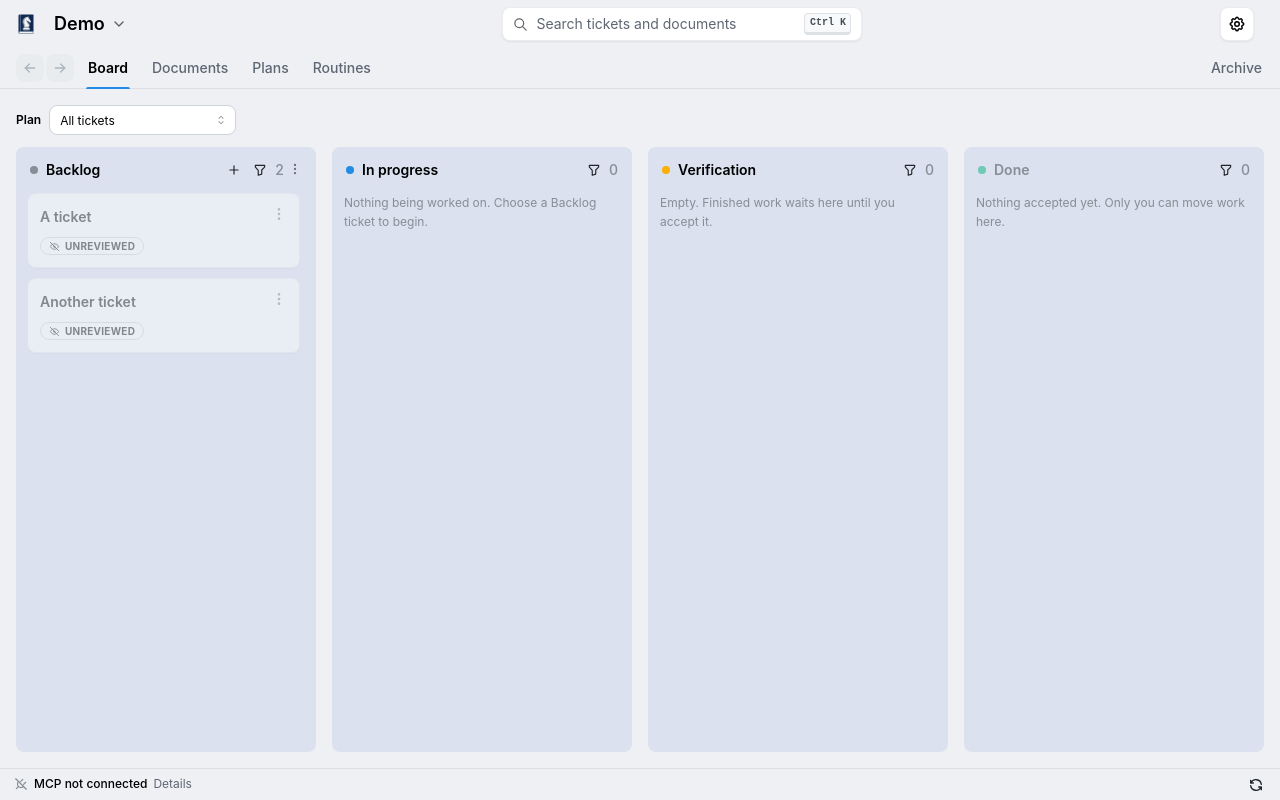
Test: a plan changed elsewhere › refuses the edit, reloads, and says so
Expected: the text "A ticket" is shown, left=40, top=208, right=91, bottom=225
Click the tab "Plans": [270, 68] box left=250, top=48, right=291, bottom=88
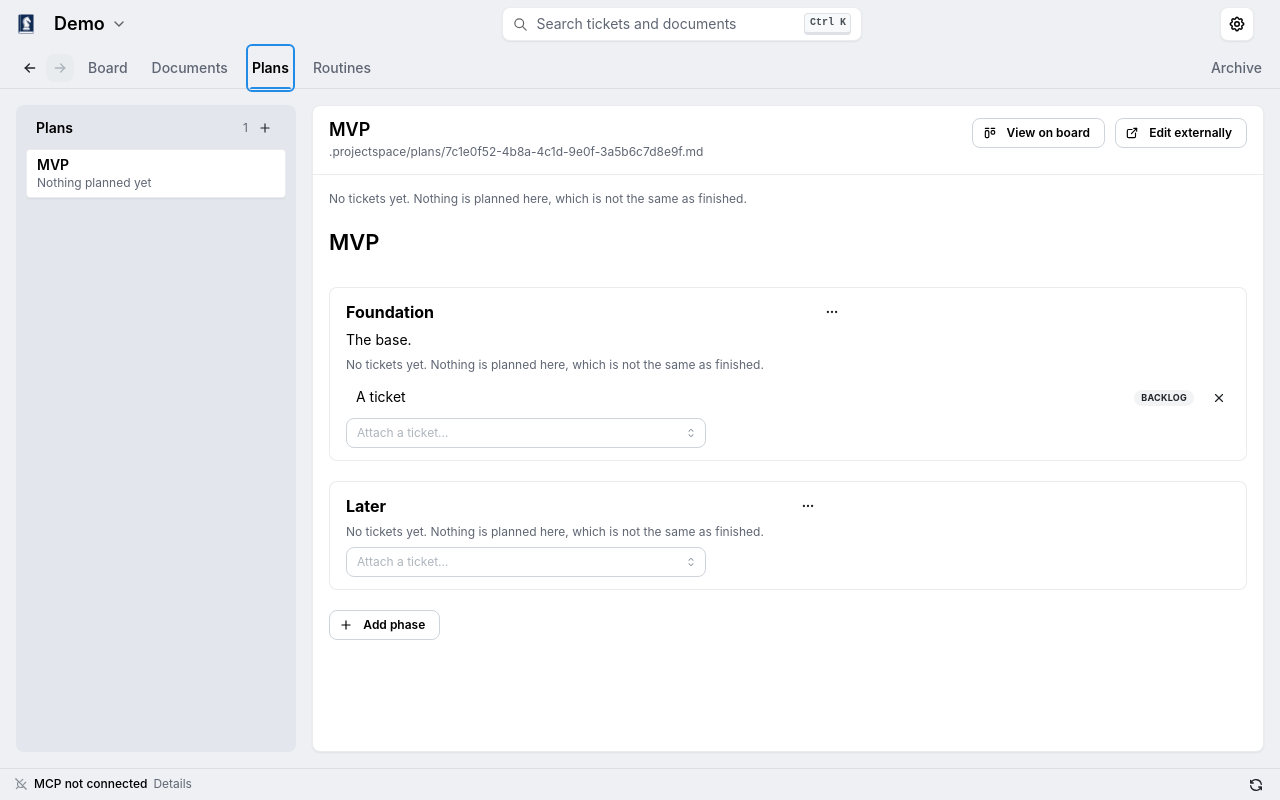
Click the button named "Detach A ticket from Foundation": [1219, 398] box left=1208, top=387, right=1230, bottom=409
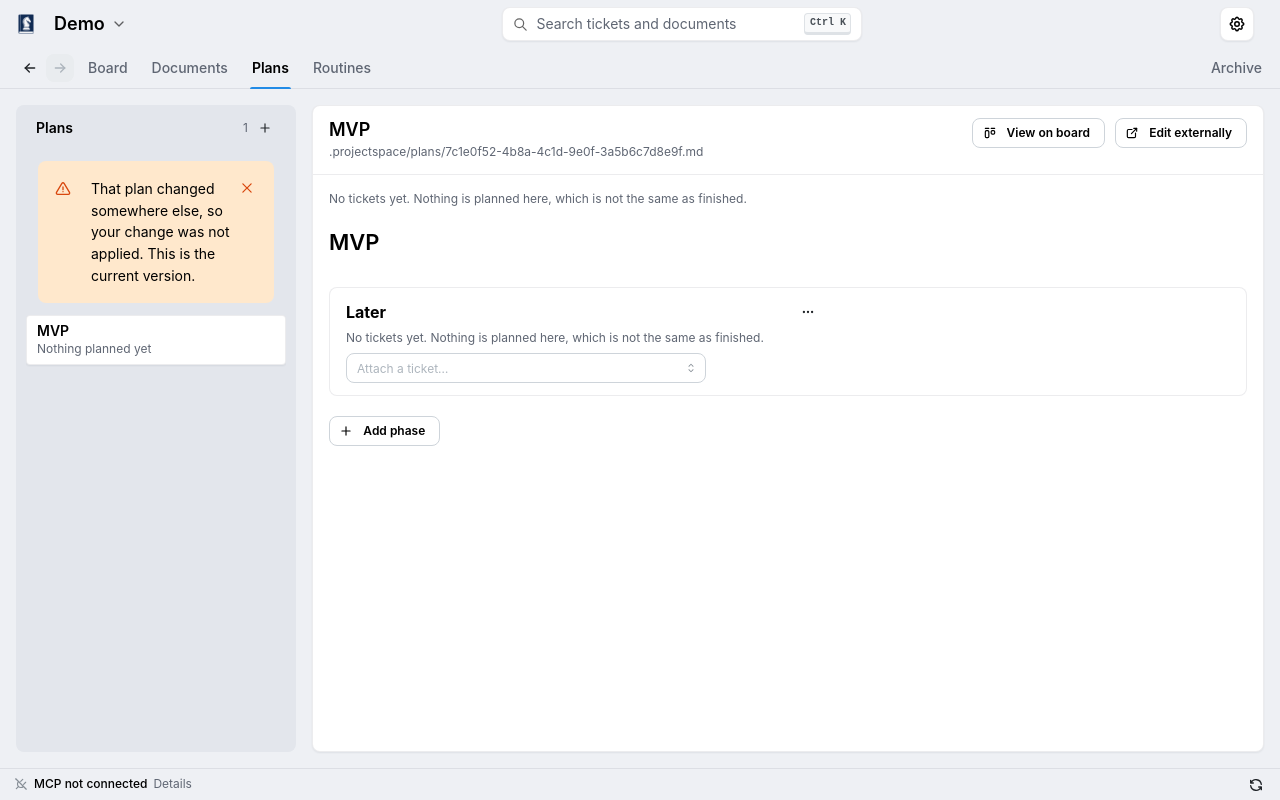
Expected: the text "That plan changed somewhere else, so your change was not applied" is shown, left=91, top=180, right=230, bottom=284
Expected: the heading "Foundation" is gone
